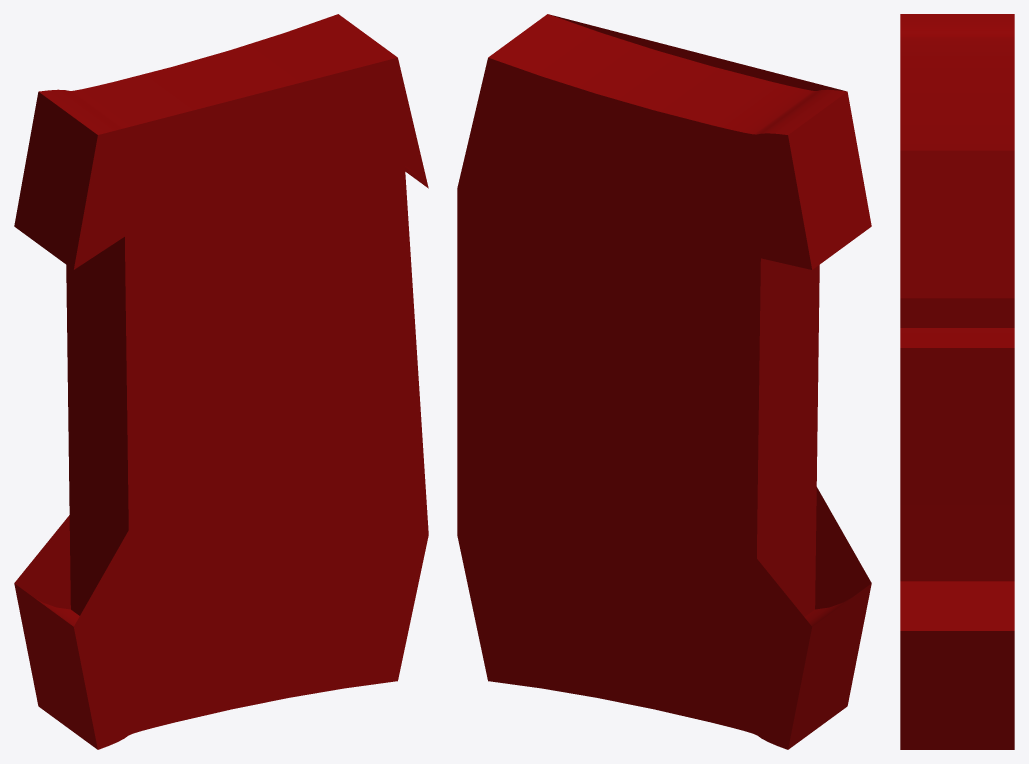
3 renders of one model, left to right at view 1: azimuth 30°, elevation 25°; view 2: azimuth 150°, elevation 25°; view 3: azimuth 270°, elevation 25°, orthographic. The views are drawn at different scales.
Visible parts, largest first — view 1: polySurface134; view 2: polySurface134; view 3: polySurface134.
Boxes of the visible parts, x1,y1,x2,y2 form: polySurface134: (14,14,428,749); polySurface134: (457,14,871,749); polySurface134: (900,14,1014,749).
Bounding box in the file's own units: 2.43 × 4.08 × 0.7068.
